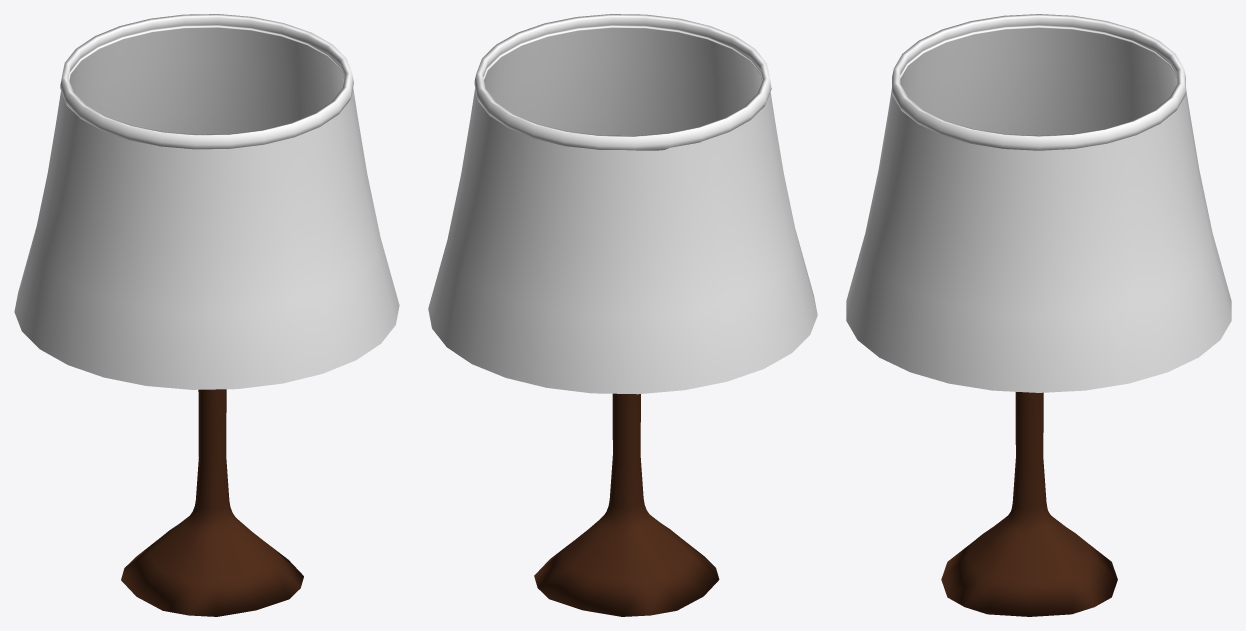
The model's file is taideng.fbx.
The picture shows the model from 3 angles, left to right: view 1: azimuth 30°, elevation 25°; view 2: azimuth 150°, elevation 25°; view 3: azimuth 270°, elevation 25°; orthographic projection.
Visible parts, largest first — view 1: polySurface4; view 2: polySurface4; view 3: polySurface4.
Part boxes in pixels (<box>): polySurface4: <box>14,14,399,616</box>; polySurface4: <box>428,14,817,616</box>; polySurface4: <box>846,14,1231,616</box>.
Size of the model in its own units: 35.42 by 50.68 by 35.16.
